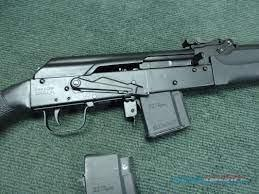larga: (0, 37, 259, 141)
